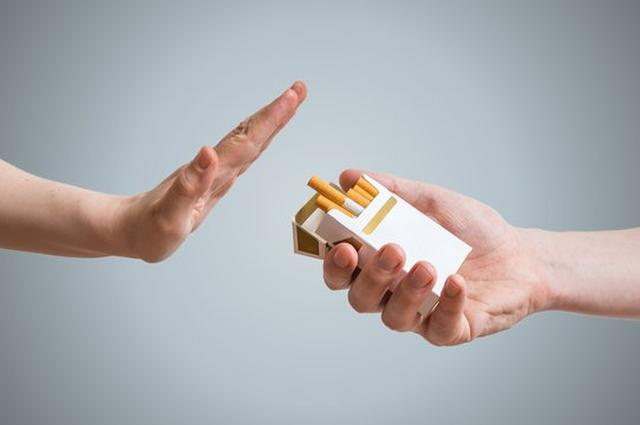Cigarette: (309, 169, 384, 224)
